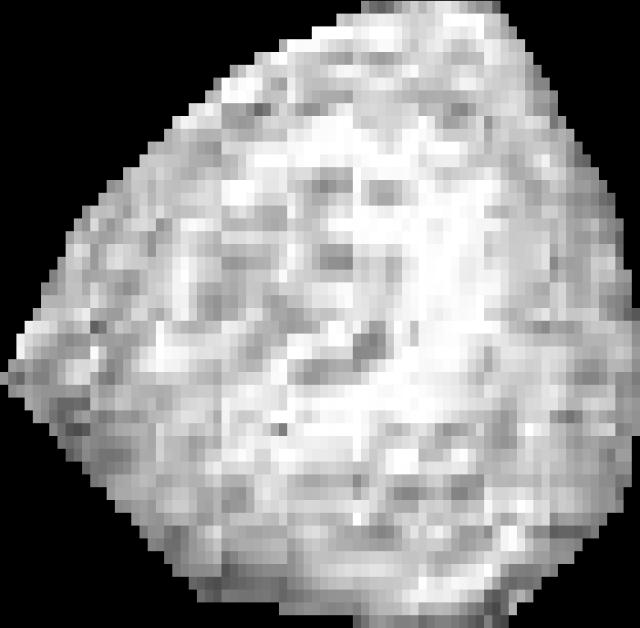tumor_moderate_chance: (0, 1, 640, 628)
